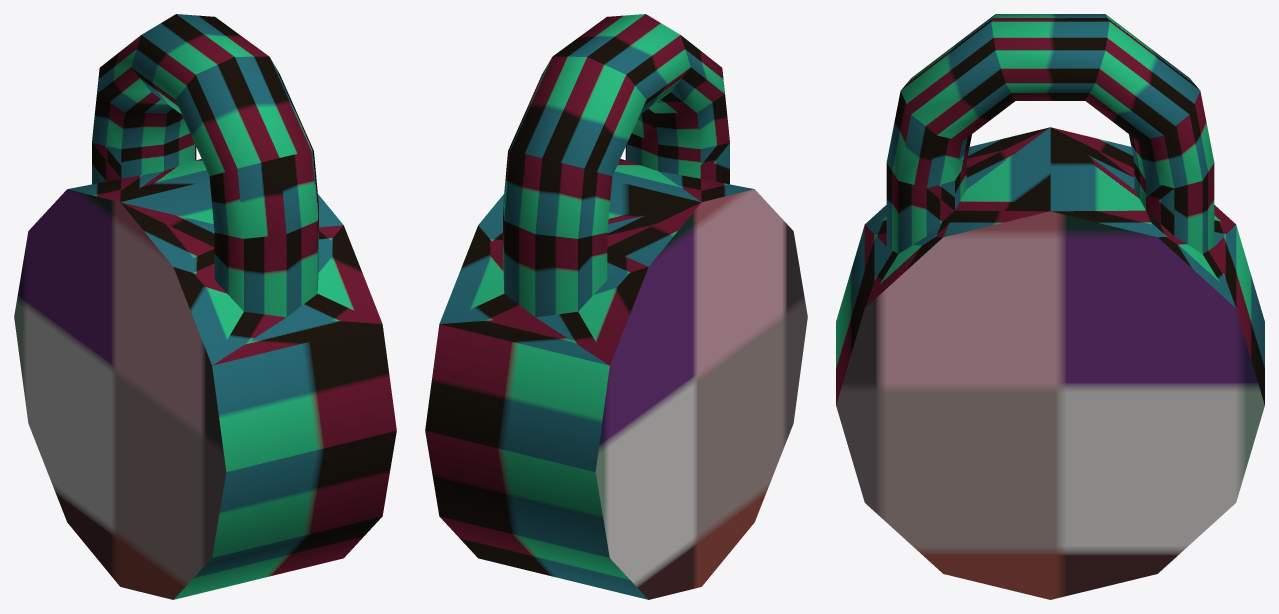
File: pipe.fbx
3 renders of one model, left to right at view 1: azimuth 30°, elevation 25°; view 2: azimuth 150°, elevation 25°; view 3: azimuth 270°, elevation 25°, orthographic.
Visible parts, largest first — view 1: lock; view 2: lock; view 3: lock.
Boxes of the visible parts, bbox=[...] form: lock: bbox=[14, 14, 396, 599]; lock: bbox=[425, 14, 807, 599]; lock: bbox=[836, 14, 1264, 599].
Bounding box in the file's own units: 46.38 × 138 × 100.
Materials: 1 (1 with a texture image).
